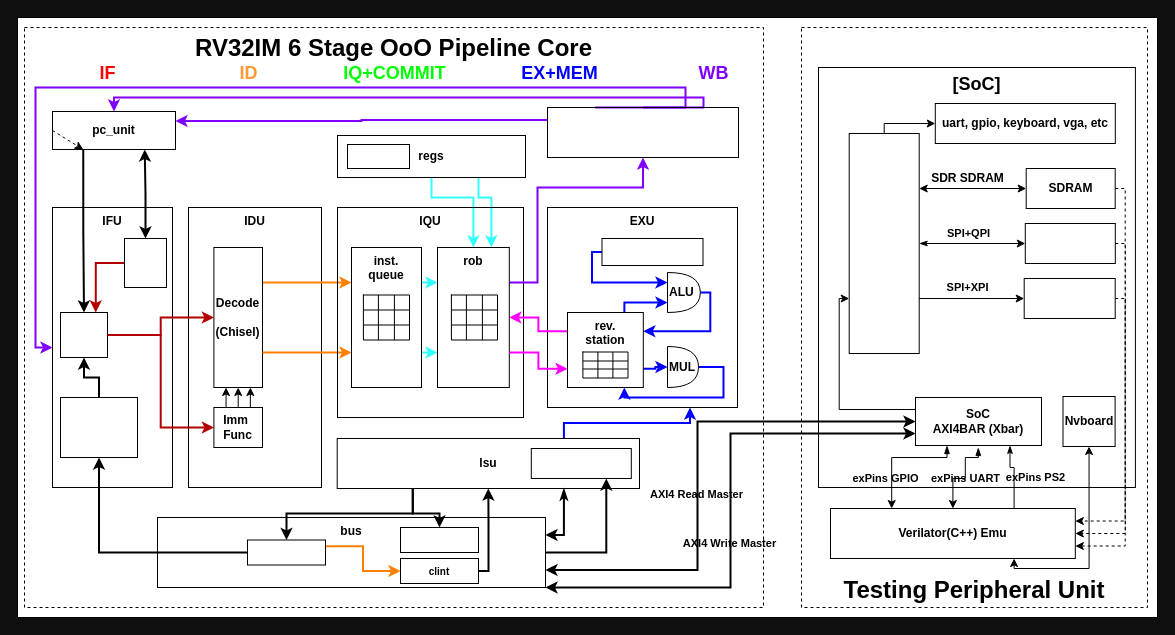
This 1175x635 diagram has some shape labels left out. Each missing label, with the centre of its shape:
"BPU BTB" goes at pixel 145 263.
"csr_regs" goes at pixel 652 252.
"Flash" goes at pixel 1069 298.
"L1d Cache" goes at pixel 580 463.
"L1i Cache" goes at pixel 99 427.
"load_state" goes at pixel 286 552.
"pc" goes at pixel 84 335.
"PSRAM" goes at pixel 1069 243.
"rf_table" goes at pixel 378 156.
"SoC ASIC" goes at pixel 883 243.
"store_state" goes at pixel 439 539.
"WBU" goes at pixel 642 132.
